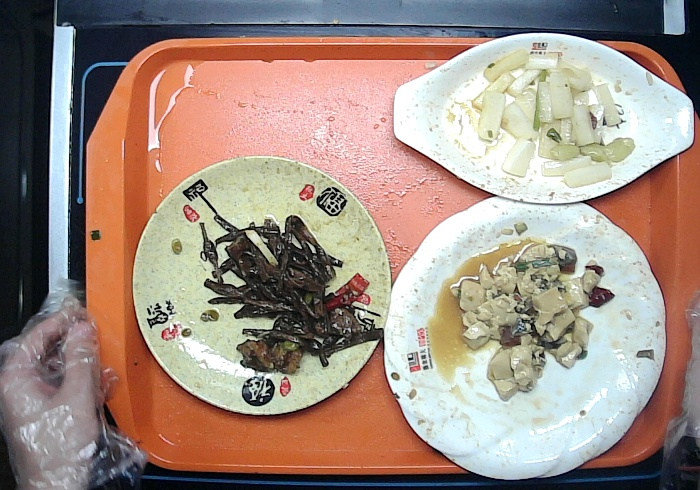NLDX-Bai_Zhe_Yuan_Pan: (382, 198, 666, 483)
NLDX-Fu_Zi_Yuan_Pan: (130, 151, 396, 418)
NLDX-Yu_Pan: (391, 26, 696, 208)
